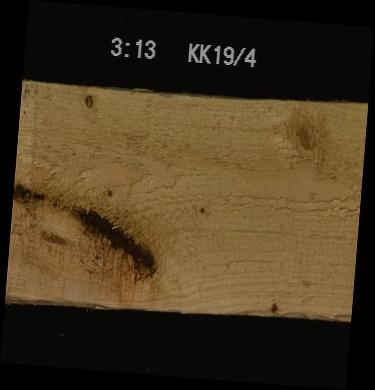dry_knot: (83, 92, 94, 108)
edge_knot: (269, 299, 277, 312)
small_knot: (197, 203, 206, 214)
sound_knot: (269, 101, 342, 178)
wave: (221, 306, 350, 318)
